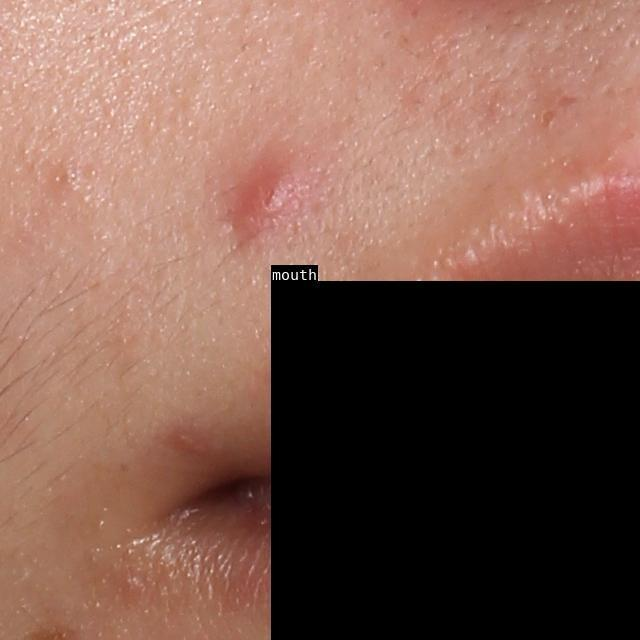atrophic_scar: (555, 92, 583, 115), (541, 108, 559, 129)
papule: (232, 158, 304, 235), (171, 425, 204, 457)
